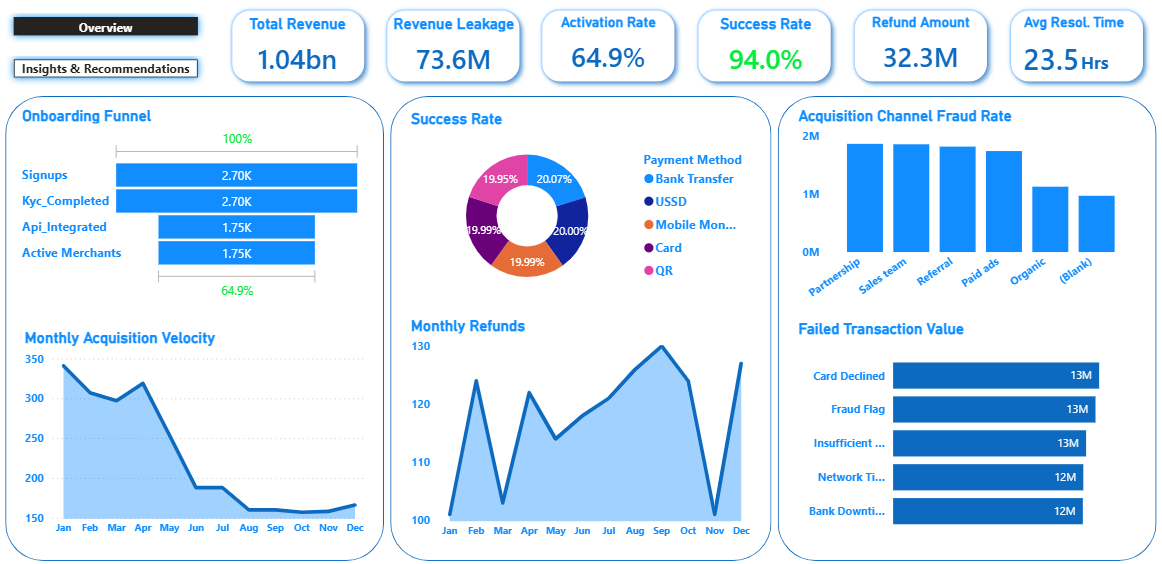

The dashboard page shown, as its layout file describes it:
{"tool":"powerbi","page":{"name":"Overview","canvas":[1280,720],"ordinal":0},"visuals":[{"type":"shape","box":[0,0,1280.3,94.7],"z":0},{"type":"textbox","box":[8.2,0,719,64.5],"z":1000},{"type":"textbox","box":[727.3,24.7,67.2,39.8],"z":2000},{"type":"slicer","fields":{"Values":["Master Date.Year"]},"box":[813.7,9.6,149.6,65.9],"z":3000},{"type":"slicer","fields":{"Values":["valid_merchants.country"]},"box":[975.6,9.6,146.8,63.1],"z":4000},{"type":"slicer","fields":{"Values":["valid_merchants.industry"]},"box":[1130.7,9.6,141.3,60.4],"z":5000},{"type":"textbox","box":[8.2,53.5,518.7,38.4],"z":6000},{"type":"shape","box":[247,100.2,163,96.1],"z":7000},{"type":"shape","box":[417.1,100.2,163.3,96.1],"z":8000},{"type":"shape","box":[587.3,100.2,163.3,96.1],"z":9000},{"type":"shape","box":[758.8,100.2,163.3,96.1],"z":10000},{"type":"shape","box":[930.4,100.2,163.3,96.1],"z":11000},{"type":"shape","box":[1101.9,100.2,163,96.1],"z":12000},{"type":"shape","box":[6.9,203.1,415.8,510.5],"z":13000},{"type":"shape","box":[429.5,203.1,418.5,510.5],"z":14000},{"type":"shape","box":[854.9,203.1,415.8,510.5],"z":15000},{"type":"funnel","title":"Onboarding Funnel","fields":{"Y":["valid_merchants.Signups","Sum(valid_merchants.kyc_completed)","Sum(valid_merchants.api_integrated)","valid_merchants.Active Merchants"]},"box":[20.6,214.1,382.9,218.2],"z":16000},{"type":"areaChart","title":"Monthly Acquisition Velocity","fields":{"Category":["Master Date.Month Name"],"Y":["valid_merchants.Total Monthly Signups"]},"box":[23.3,458.3,384.2,236],"z":17000},{"type":"clusteredColumnChart","title":"Acquisition Channel Fraud Rate","fields":{"Y":["valid_transactions.Total Fraud Value"],"Category":["valid_merchants.acquisition_channel"]},"box":[872.7,214.1,378.7,230.5],"z":18000},{"type":"donutChart","title":"Success Rate","fields":{"Y":["valid_transactions.Overall Success Rate"],"Category":["valid_transactions.payment_method"]},"box":[447.3,218.2,384.2,214.1],"z":19000},{"type":"clusteredBarChart","title":"Failed Transaction Value","fields":{"Category":["valid_transactions.failure_reason"],"Y":["valid_transactions.Total Failed Value"]},"box":[872.7,448.7,384.2,245.6],"z":20000},{"type":"cardVisual","title":"Avg Resol. Time","fields":{"Data":["Avg(valid_support_tickets.resolution_time_hours)"]},"box":[1108.8,108.4,142.7,82.3],"z":21000},{"type":"textbox","box":[1182.8,148.2,54.9,42.5],"z":22000},{"type":"cardVisual","title":"Success Rate","fields":{"Data":["valid_transactions.Overall Success Rate"]},"box":[771.2,108.4,141.3,82.3],"z":23000},{"type":"areaChart","title":"Monthly Refunds","fields":{"Y":["valid_transactions.Total Refund Count"],"Category":["Master Date.Month Name"]},"box":[447.3,444.6,384.2,252.5],"z":24000},{"type":"cardVisual","title":"Refund Amount","fields":{"Data":["valid_transactions.Refund Amount"]},"box":[942.7,108.4,138.6,82],"z":25000},{"type":"cardVisual","title":"Total Revenue","fields":{"Data":["valid_merchants.Total Payment Value (TPV)"]},"box":[258,108.4,140,82.3],"z":26000},{"type":"cardVisual","title":"Activation Rate","fields":{"Data":["valid_merchants.Activation Rate"]},"box":[599.7,108.4,140,82.3],"z":27000},{"type":"cardVisual","title":"Revenue Leakage","fields":{"Data":["valid_transactions.Total Revenue Leakage"]},"box":[424,108.4,150.9,85.1],"z":28000},{"type":"bookmarkNavigator","box":[0,0,600,50],"z":28001},{"type":"pageNavigator","box":[8.2,108.4,218.2,82.3],"z":28002}]}

Visuals, with their boxes on the page's 1280x720 design canvas (x1, y1, x2, y2). These are canvas units, not pixel positions in the 1162x564 screenshot, which may show the page scaled, cropped or inside an application window:
shape: [left=0, top=0, right=1280, bottom=95]
textbox: [left=8, top=0, right=727, bottom=64]
textbox: [left=727, top=25, right=794, bottom=64]
slicer - Master Date.Year: [left=814, top=10, right=963, bottom=76]
slicer - valid_merchants.country: [left=976, top=10, right=1122, bottom=73]
slicer - valid_merchants.industry: [left=1131, top=10, right=1272, bottom=70]
textbox: [left=8, top=54, right=527, bottom=92]
shape: [left=247, top=100, right=410, bottom=196]
shape: [left=417, top=100, right=580, bottom=196]
shape: [left=587, top=100, right=751, bottom=196]
shape: [left=759, top=100, right=922, bottom=196]
shape: [left=930, top=100, right=1094, bottom=196]
shape: [left=1102, top=100, right=1265, bottom=196]
shape: [left=7, top=203, right=423, bottom=714]
shape: [left=430, top=203, right=848, bottom=714]
shape: [left=855, top=203, right=1271, bottom=714]
"Onboarding Funnel" funnel: [left=21, top=214, right=404, bottom=432]
"Monthly Acquisition Velocity" areaChart: [left=23, top=458, right=408, bottom=694]
"Acquisition Channel Fraud Rate" clusteredColumnChart: [left=873, top=214, right=1251, bottom=445]
"Success Rate" donutChart: [left=447, top=218, right=832, bottom=432]
"Failed Transaction Value" clusteredBarChart: [left=873, top=449, right=1257, bottom=694]
"Avg Resol. Time" cardVisual: [left=1109, top=108, right=1252, bottom=191]
textbox: [left=1183, top=148, right=1238, bottom=191]
"Success Rate" cardVisual: [left=771, top=108, right=912, bottom=191]
"Monthly Refunds" areaChart: [left=447, top=445, right=832, bottom=697]
"Refund Amount" cardVisual: [left=943, top=108, right=1081, bottom=190]
"Total Revenue" cardVisual: [left=258, top=108, right=398, bottom=191]
"Activation Rate" cardVisual: [left=600, top=108, right=740, bottom=191]
"Revenue Leakage" cardVisual: [left=424, top=108, right=575, bottom=194]
bookmarkNavigator: [left=0, top=0, right=600, bottom=50]
pageNavigator: [left=8, top=108, right=226, bottom=191]
